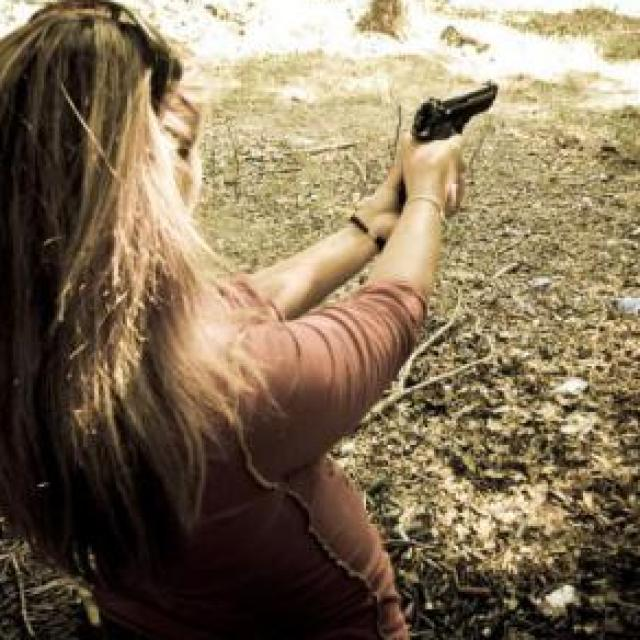pistol: (408, 81, 497, 149)
